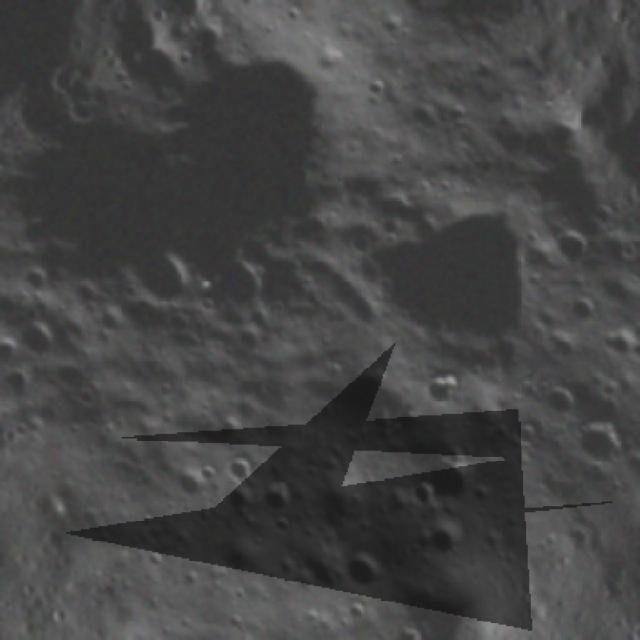crater: (352, 168, 576, 387), (120, 230, 212, 324), (197, 230, 283, 322), (561, 395, 640, 486), (410, 434, 487, 515), (2, 300, 69, 372), (362, 172, 432, 240), (39, 346, 101, 408), (335, 538, 396, 599), (412, 508, 471, 568), (529, 368, 589, 427), (250, 469, 308, 529), (584, 314, 640, 373), (407, 360, 467, 415), (531, 107, 586, 164), (188, 9, 244, 63), (218, 473, 271, 527), (10, 255, 64, 307), (549, 220, 602, 272), (162, 459, 213, 512), (304, 33, 356, 84), (0, 355, 48, 410), (371, 0, 484, 22), (406, 92, 454, 142), (399, 467, 446, 518), (64, 269, 114, 316), (63, 89, 109, 133), (560, 288, 605, 330), (506, 412, 548, 456), (438, 90, 478, 135), (220, 448, 262, 490), (356, 68, 395, 108), (342, 592, 380, 633), (173, 558, 209, 596), (621, 304, 640, 375), (266, 508, 302, 543), (0, 332, 28, 376), (194, 455, 226, 488), (0, 293, 3, 342)
